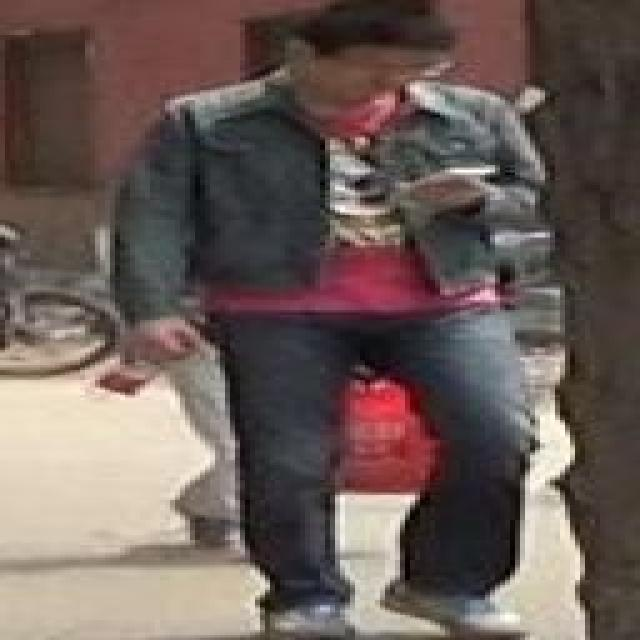adult: (92, 4, 560, 634)
